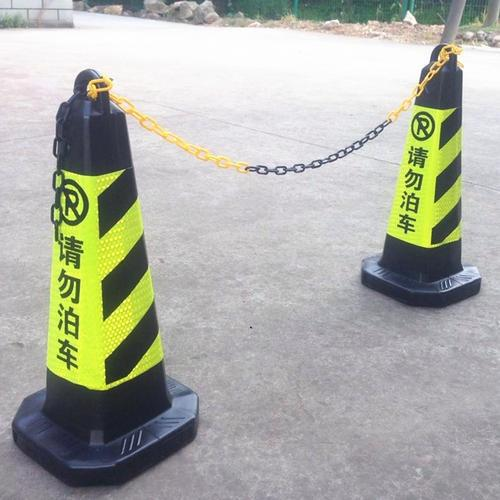cone_barrel: (15, 70, 199, 472), (358, 41, 489, 303)
